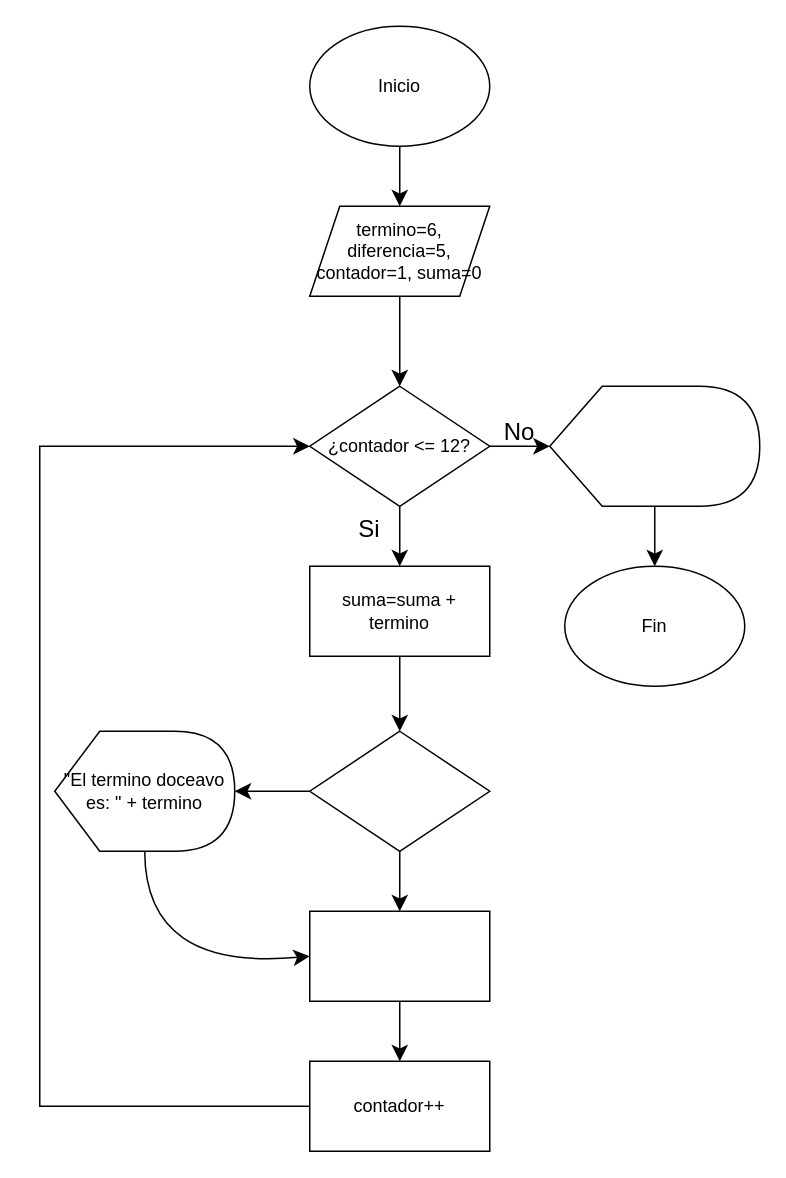
Image size: 786x1178. Some labels were removed from this diagram. The shapes that lost their labels are listed below. From the top down, each one's centre as x and y in pixels, then its label:
the point at 654,445: "La suma de los doce primeros terminos es: " + suma
the point at 399,790: ¿contador == 12?
the point at 399,955: termino=termino + diferencia
